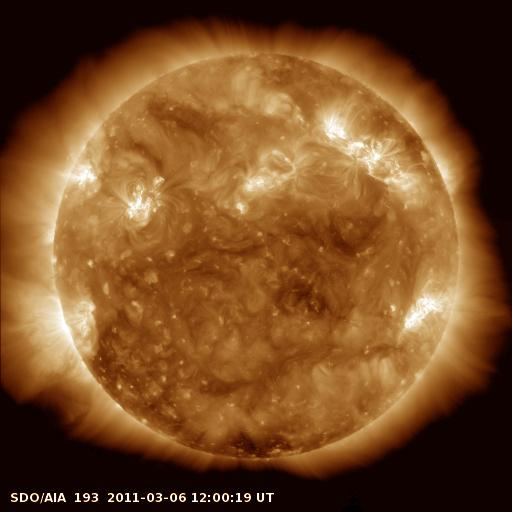coronal_hole: (218, 425, 314, 466)
